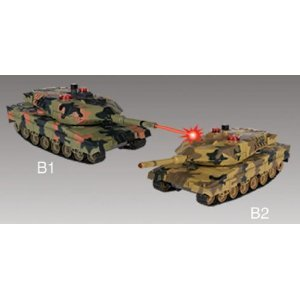Battle Tank: (1, 88, 151, 163), (147, 134, 298, 206)
